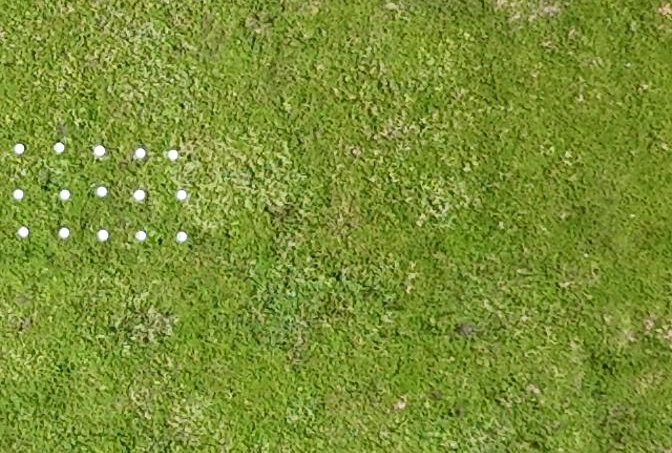bowl: (133, 189, 146, 201), (58, 227, 70, 239), (94, 145, 106, 157), (97, 229, 109, 241), (13, 188, 24, 200), (53, 142, 65, 153), (135, 230, 147, 241), (135, 147, 146, 159), (168, 149, 179, 161), (14, 143, 25, 154), (59, 189, 70, 200), (18, 226, 29, 237), (97, 186, 108, 197), (177, 189, 187, 201), (177, 231, 187, 242)
